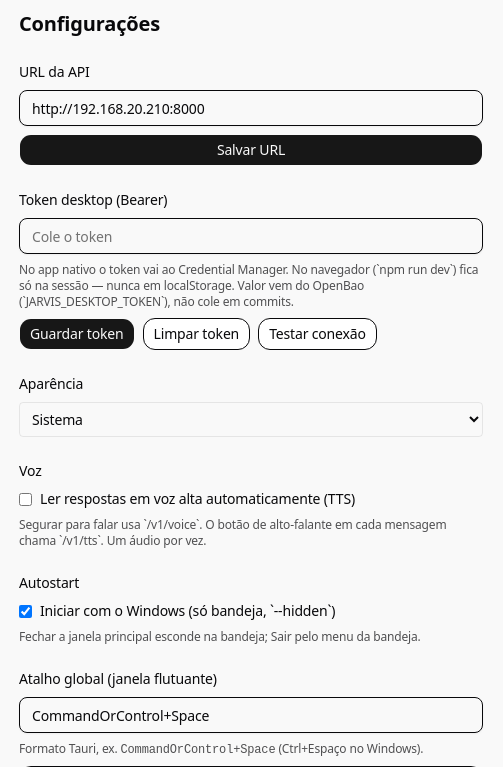
it: SettingsPage › URL fora do CSP mostra o alerta
Type "http://10.9.9.9:8000" into the field with placeholder "http://192.168.20.210:8000" below "URL da API".
click(251, 108); type("http://10.9.9.9:8000")  # box [19, 90, 483, 126]
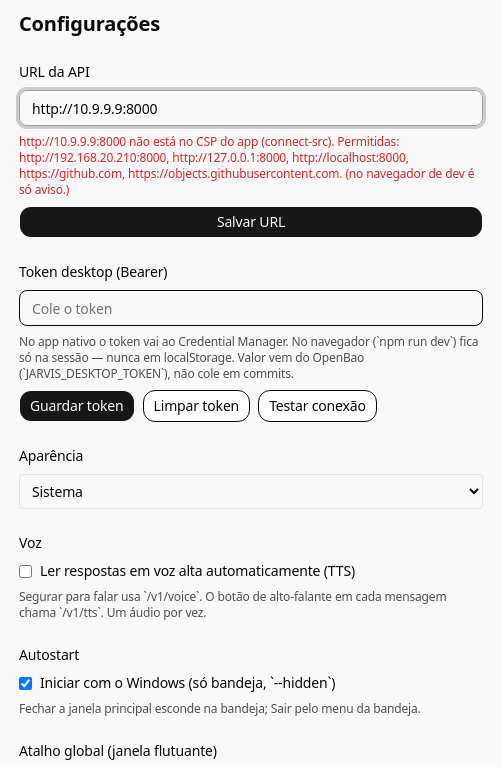
Result: the message shows "não está no CSP" at [19, 133, 409, 182]
